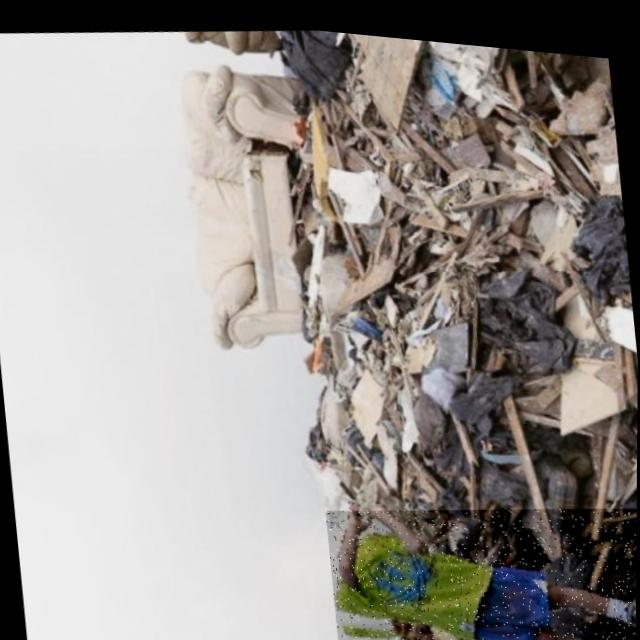Person in Rubble: (324, 470, 637, 640)
